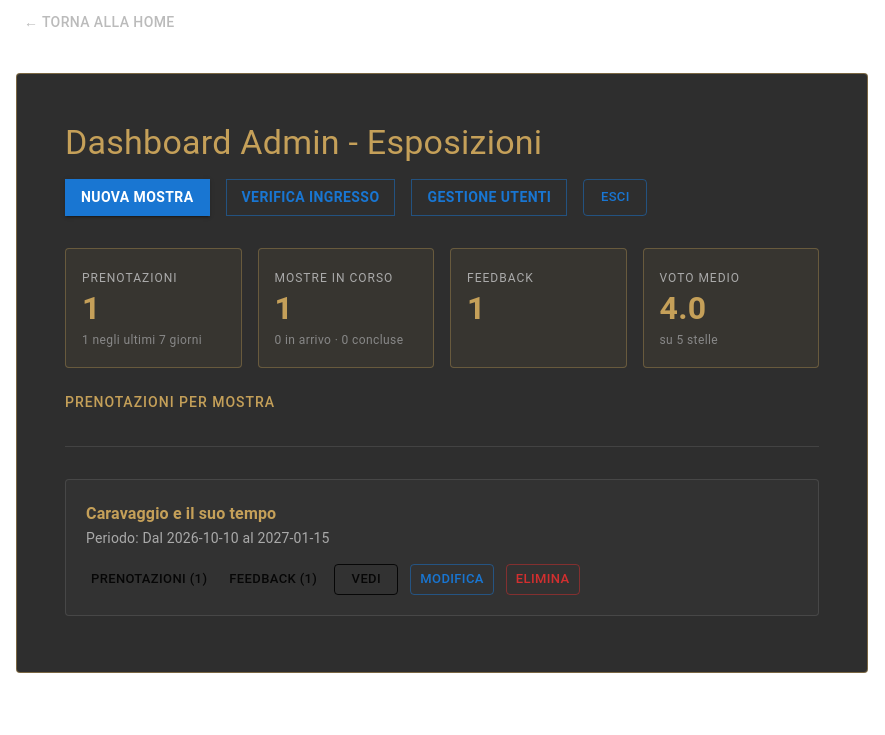
Test case: AdminDashboard - gestione › con il token mostra mostre e prenotazioni
Expected: the heading "Caravaggio e il suo tempo" is shown, [86, 504, 276, 523]
Click the button "Prenotazioni (1)": (149, 580) [86, 564, 212, 595]
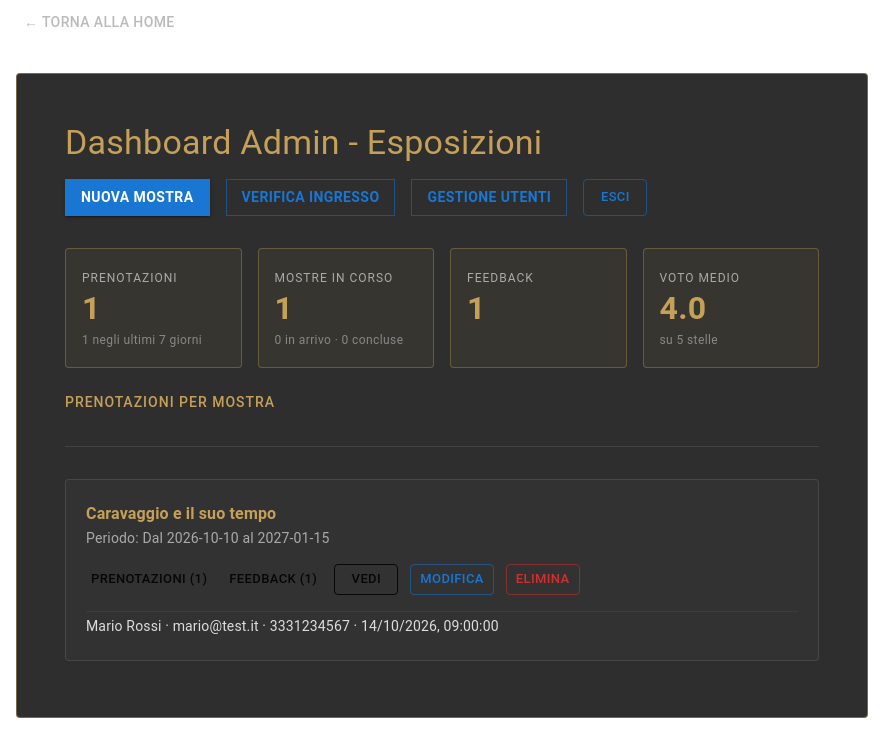
Now the text "Mario Rossi · mario@test.it · 3331234567" is shown, box [86, 611, 798, 640]
